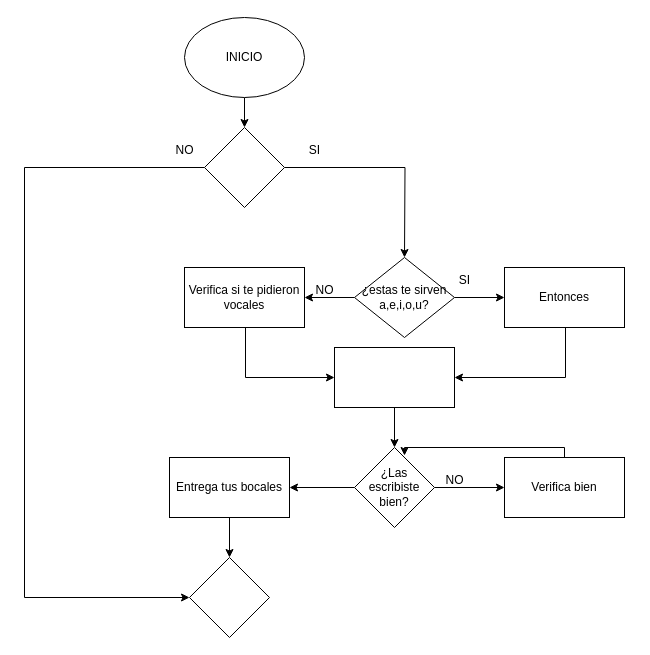
This 650x655 diagram has some shape labels left out. Here are the shapes that lost their labels. From the top down, the box of each, then its label:
(204, 126, 284, 208): ¿Buscas bocales?
(334, 346, 454, 408): Escríbelas en tu cuaderno
(188, 556, 270, 638): FIN
